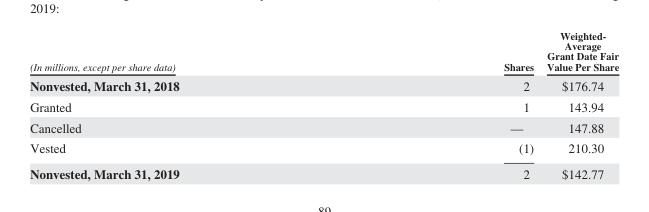table: (29, 28, 618, 180)
table column: (29, 28, 341, 180), (341, 28, 539, 180), (539, 28, 618, 180)
table column header: (29, 28, 618, 75)
table row: (29, 28, 618, 75), (29, 137, 618, 160), (29, 75, 618, 96), (29, 116, 618, 137), (29, 96, 618, 116), (29, 160, 618, 180)
